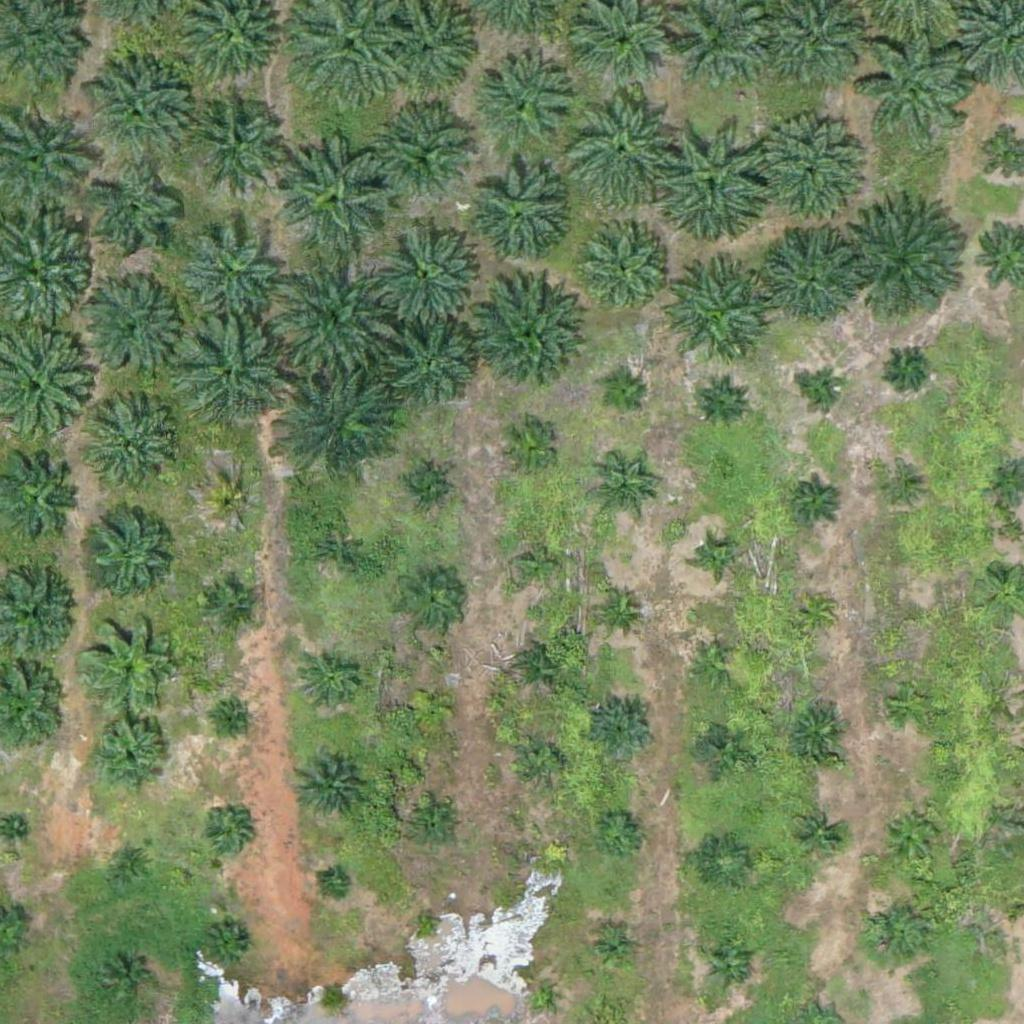Kelapa_Sawit: (652, 120, 777, 246), (560, 86, 685, 212), (270, 251, 395, 377), (278, 362, 403, 488), (848, 201, 973, 326), (469, 282, 582, 396), (860, 28, 973, 141), (749, 114, 862, 227), (178, 320, 291, 433), (83, 55, 196, 168), (370, 212, 482, 326), (280, 132, 392, 246), (658, 264, 770, 377), (759, 225, 859, 326), (573, 219, 673, 320), (474, 55, 574, 156), (182, 221, 282, 322), (86, 167, 186, 268), (81, 276, 181, 377), (79, 611, 179, 712), (466, 164, 566, 264), (379, 103, 479, 203), (188, 91, 288, 191), (92, 405, 180, 494), (86, 712, 174, 800), (388, 323, 476, 411), (86, 501, 173, 589), (292, 748, 367, 824), (590, 462, 653, 525), (496, 416, 559, 479), (863, 900, 926, 963), (592, 698, 655, 761), (507, 533, 570, 596), (400, 571, 462, 634), (300, 650, 362, 713), (787, 702, 849, 765), (881, 803, 943, 866), (304, 520, 366, 583), (699, 837, 749, 888), (697, 719, 747, 770), (517, 641, 567, 692), (593, 584, 643, 635), (518, 735, 568, 786), (397, 462, 447, 513), (406, 681, 456, 732), (594, 808, 644, 859), (792, 808, 842, 859), (704, 940, 754, 991), (207, 579, 257, 629), (697, 377, 747, 427), (791, 475, 841, 525), (887, 679, 937, 729), (690, 639, 740, 689), (598, 372, 648, 422), (412, 802, 462, 852), (589, 925, 639, 975), (201, 808, 251, 858), (204, 922, 254, 972), (101, 954, 151, 1004), (108, 840, 158, 890), (208, 479, 258, 529), (888, 347, 926, 385), (796, 593, 834, 631), (699, 538, 737, 576), (805, 373, 842, 411), (882, 471, 919, 509), (894, 600, 931, 638), (977, 898, 1014, 936), (321, 871, 346, 897), (526, 982, 551, 1007), (414, 909, 439, 934), (222, 707, 247, 732)
